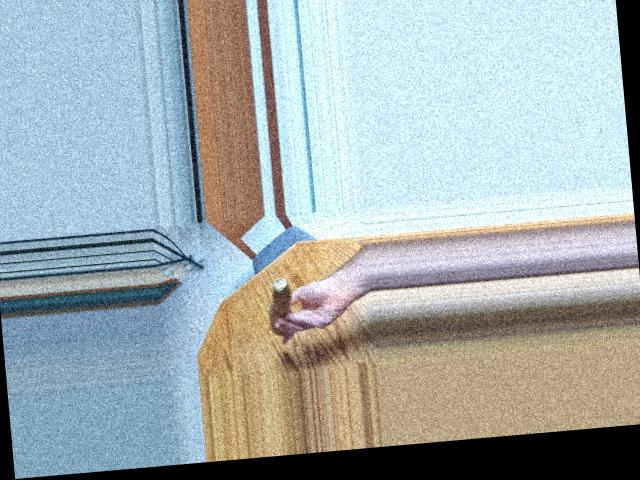sweet_potato: (266, 286, 296, 333)
